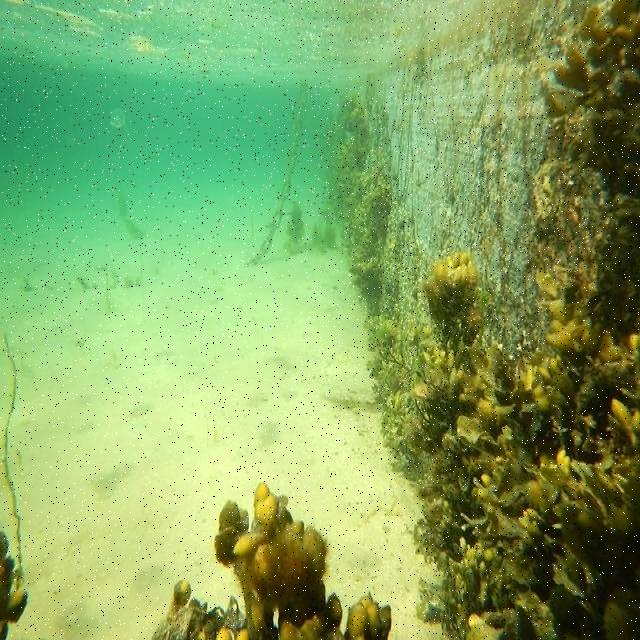aquatic plants: (330, 0, 639, 639), (285, 202, 339, 253)
reefs: (151, 485, 395, 639)
wrecks-ruins: (246, 81, 308, 267)
